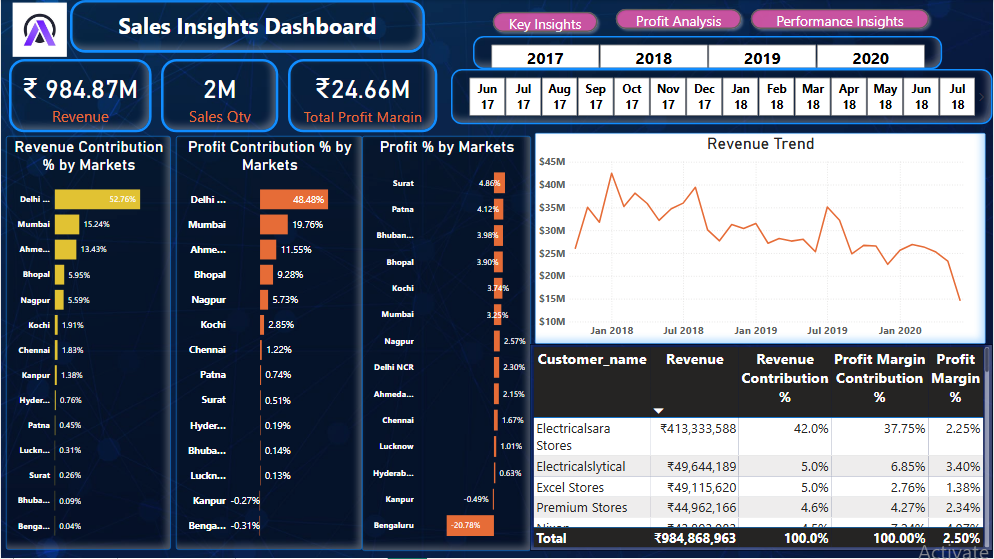

The dashboard page shown, as its layout file describes it:
{"tool":"powerbi","page":{"name":"Profit Analysis","canvas":[1920,1080],"ordinal":1},"visuals":[{"type":"card","fields":{"Values":["BaseMeasures.Revenue"]},"box":[14.9,114.8,276.4,142.4],"z":0},{"type":"card","fields":{"Values":["BaseMeasures.Sales Qty"]},"box":[310.4,114.8,227.5,142.4],"z":1000},{"type":"barChart","title":"Revenue Contribution % by Markets","fields":{"Category":["sales markets.markets_name"],"Y":["BaseMeasures.Revenue Contribution %"]},"box":[10.6,263.6,318.9,801.5],"z":2000},{"type":"barChart","title":"Profit Contribution % by Markets","fields":{"Category":["sales markets.markets_name"],"Y":["BaseMeasures.Profit Margin Contribution %"]},"box":[338,263.6,361.4,801.5],"z":3000},{"type":"slicer","fields":{"Values":["sales date.year"]},"box":[914.2,70.2,907.8,63.8],"z":4000},{"type":"slicer","fields":{"Values":["sales date.cy_date"]},"box":[871.7,132.9,1048.3,106.8],"z":5000},{"type":"lineChart","title":"Revenue Trend","fields":{"Y":["BaseMeasures.Revenue"],"Category":["sales date.cy_date.Variation.Date Hierarchy.Year","sales date.cy_date.Variation.Date Hierarchy.Quarter","sales date.cy_date.Variation.Date Hierarchy.Month","sales date.cy_date.Variation.Date Hierarchy.Day"]},"box":[1033.2,257.2,871.7,408.2],"z":6000},{"type":"textbox","box":[133.9,0,686.7,102],"z":7000},{"type":"image","box":[14.9,0,119.1,114.8],"z":8000},{"type":"actionButton","title":"Profit Analysis","box":[1179.9,8.5,261.5,57.4],"z":9000},{"type":"actionButton","title":"Key Insights","box":[941.8,12.8,221.1,57.4],"z":10000},{"type":"actionButton","title":"Performance Insights","box":[1441.4,8.5,363.5,57.4],"z":11000},{"type":"card","fields":{"Values":["BaseMeasures.Total Profit Margin"]},"box":[554.9,114.8,289.1,142.4],"z":12000},{"type":"barChart","title":"Profit % by Markets","fields":{"Category":["sales markets.markets_name"],"Y":["BaseMeasures.Profit Margin %"]},"box":[698.6,262.5,327,803.2],"z":13000},{"type":"tableEx","fields":{"Values":["sales customers.custmer_name","BaseMeasures.Revenue","BaseMeasures.Revenue Contribution %","BaseMeasures.Profit Margin Contribution %","BaseMeasures.Profit Margin %"]},"box":[1024.7,665.4,895,399.7],"z":14000}]}

Visuals, with their boxes in screenshot pixels (x1, y1, x2, y2), scaled from the page's 1920x1080 canvas onto the 994x559 screenshot:
card - BaseMeasures.Revenue: [8,59,151,133]
card - BaseMeasures.Sales Qty: [161,59,278,133]
"Revenue Contribution % by Markets" barChart: [5,136,171,551]
"Profit Contribution % by Markets" barChart: [175,136,362,551]
slicer - sales date.year: [473,36,943,69]
slicer - sales date.cy_date: [451,69,993,124]
"Revenue Trend" lineChart: [535,133,986,344]
textbox: [69,0,425,53]
image: [8,0,69,59]
"Profit Analysis" actionButton: [611,4,746,34]
"Key Insights" actionButton: [488,7,602,36]
"Performance Insights" actionButton: [746,4,934,34]
card - BaseMeasures.Total Profit Margin: [287,59,437,133]
"Profit % by Markets" barChart: [362,136,531,552]
tableEx - sales customers.custmer_name x BaseMeasures.Revenue: [530,344,993,551]
